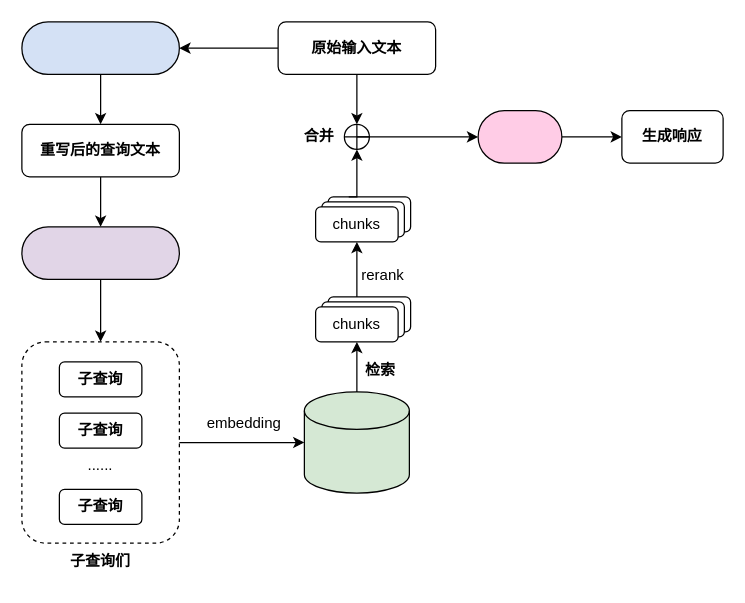
The diagram is 745 pixels wide and 603 high, and some of its shapes have lost their labels. The centre of each missing label's shape, as x and y in pixels:
LLM: [519,136]
向量数据库: [356,442]
查询重写模型: [100,47]
问题拆解模型: [100,252]
